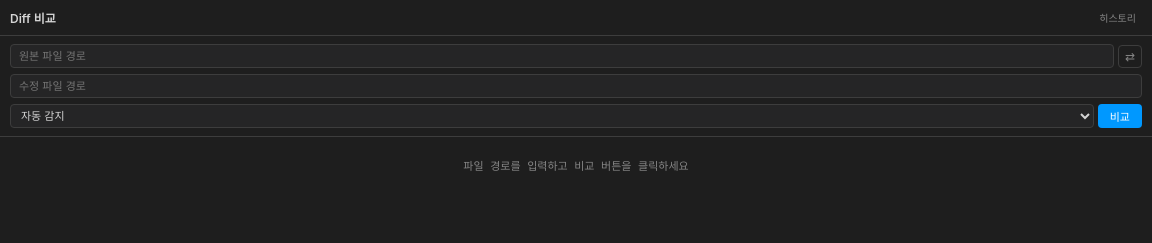
Scenario: DiffPanel › 파일 로드 성공 시 diff 통계(added/removed)가 표시된다
Type "/a.ts" into the field with placeholder "원본 파일 경로". click: point(562, 56)
box: x1=10 y1=44 x2=1114 y2=68
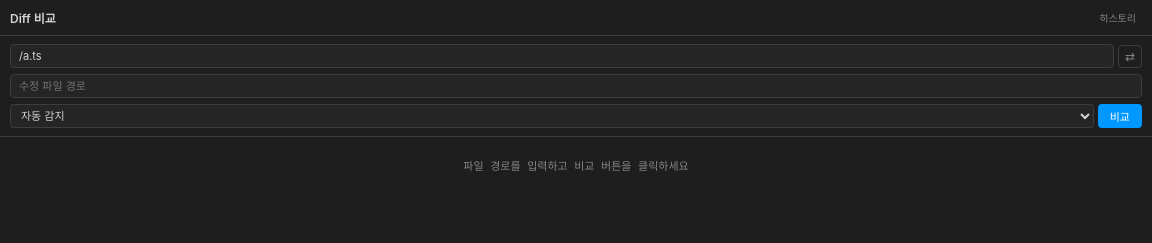
Type "/b.ts" into the field with placeholder "수정 파일 경로". click: point(576, 86)
box: x1=10 y1=74 x2=1142 y2=98
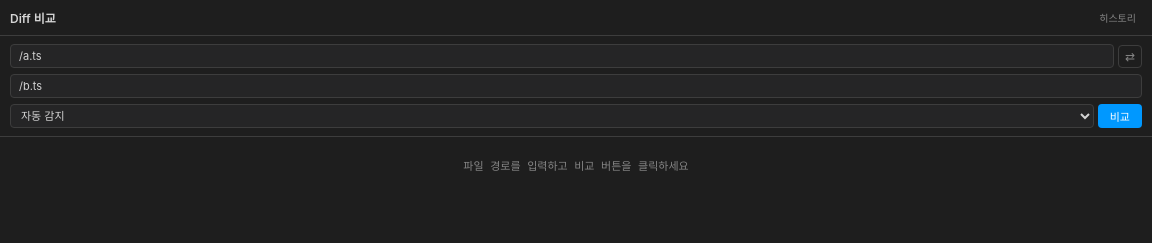
Click the button "비교". click: point(1120, 116)
box: x1=1098 y1=104 x2=1142 y2=128
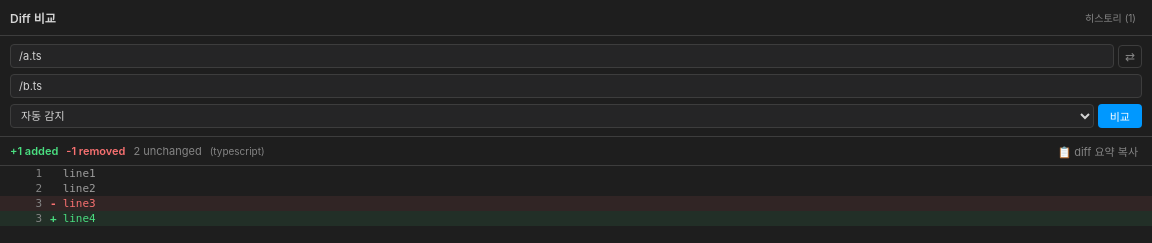
Expected: the text "+1 added" is shown, x1=10 y1=144 x2=58 y2=158
Expected: the text "-1 removed" is shown, x1=66 y1=144 x2=126 y2=158
